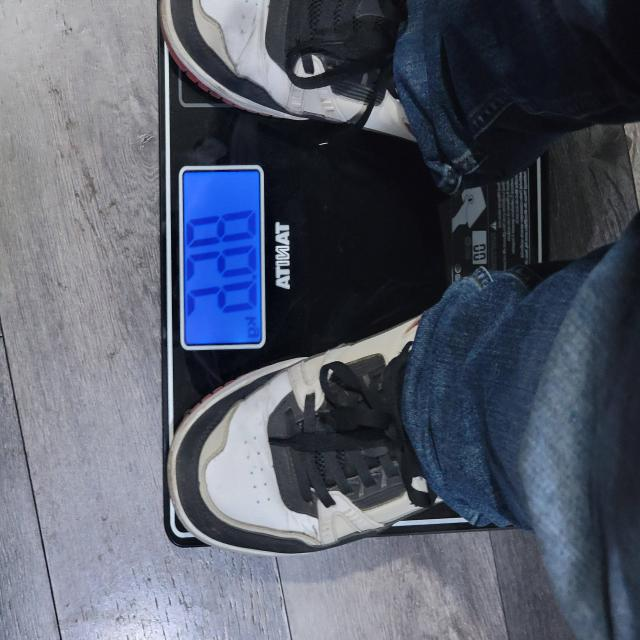ws: (179, 166, 266, 355)
